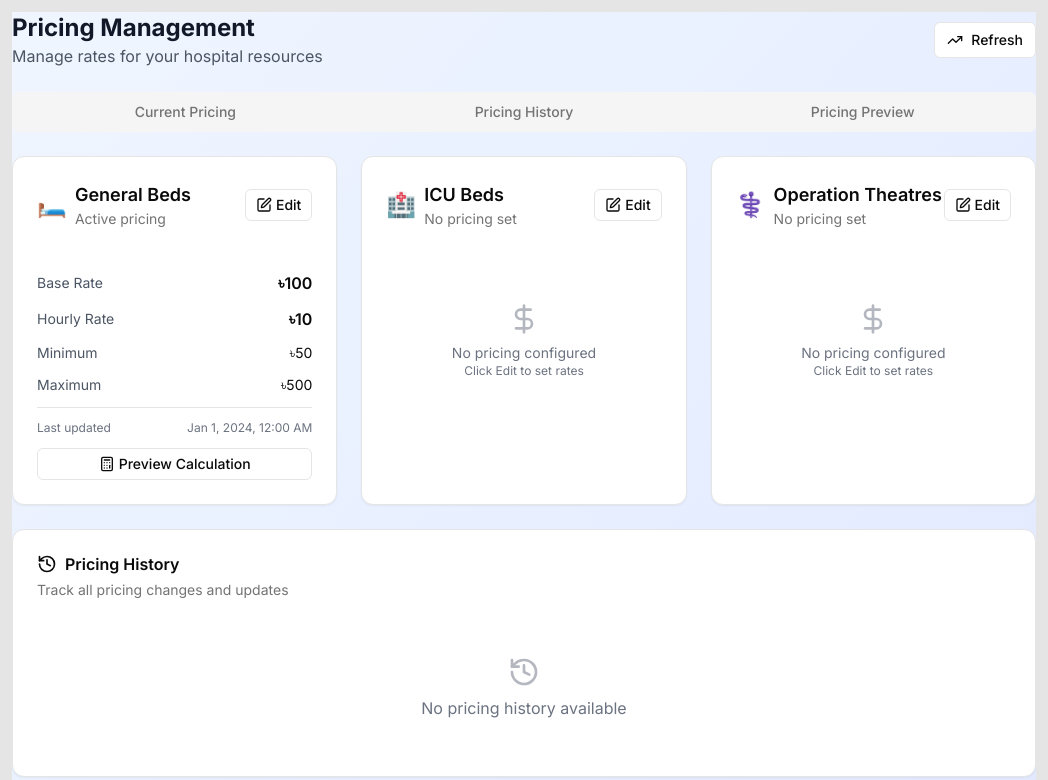
HospitalPricingDashboard › handles API errors gracefully
This screenshot has width=1048, height=780.
Note: Start editing and try to save
Click the button "Edit" in the row of "Active pricing" at (279, 205), box [245,189,312,221]
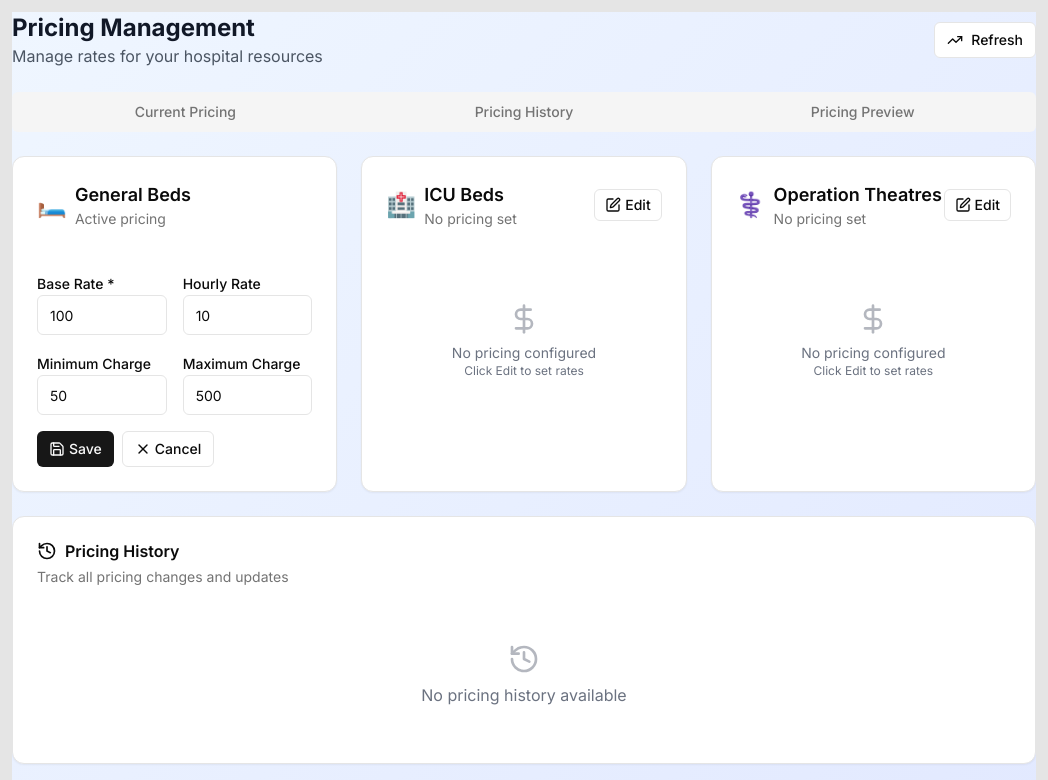
Click the button "Save" at (75, 449), box [37,431,114,467]
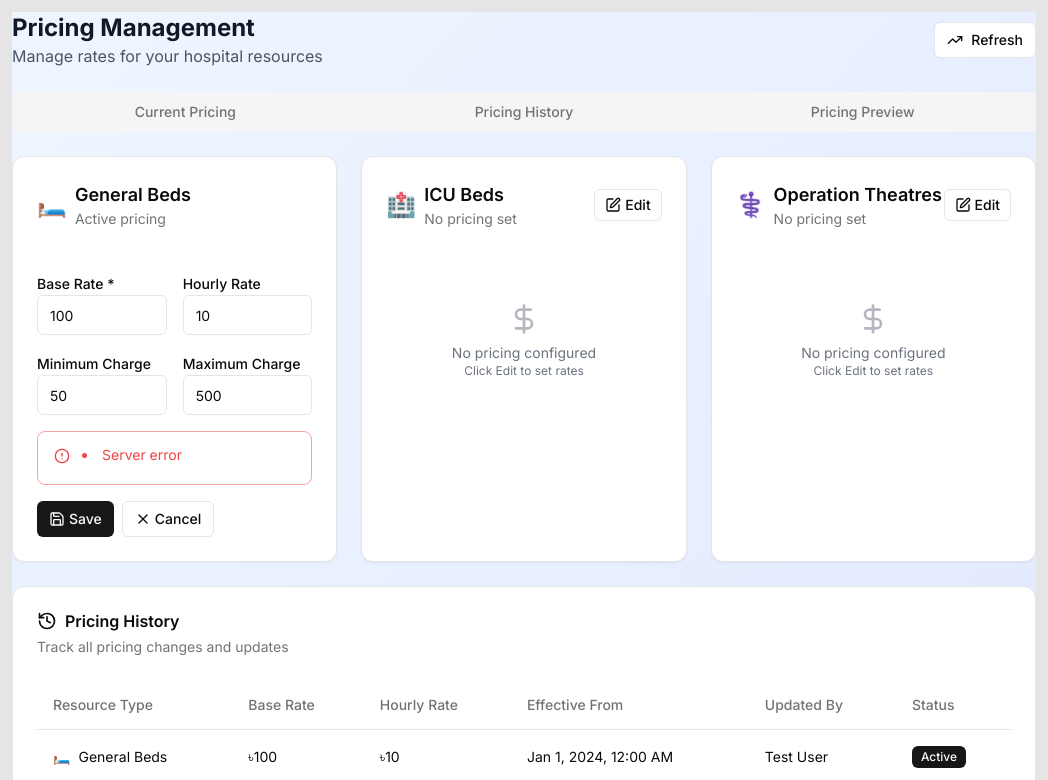
Now the list item "Server error" is shown, box [102,446,182,463]
